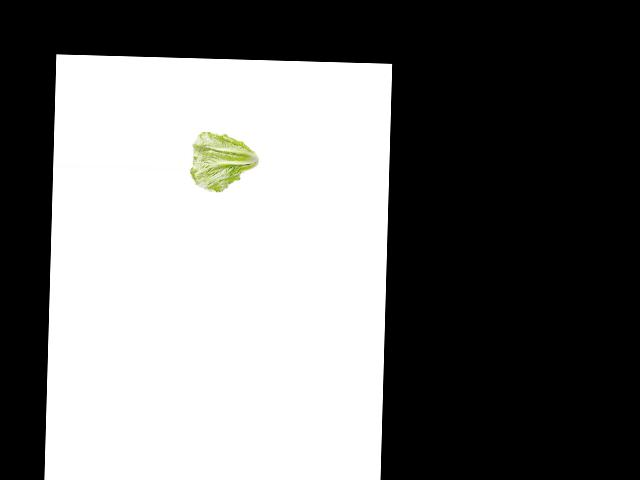lettuce: (188, 133, 262, 195)
